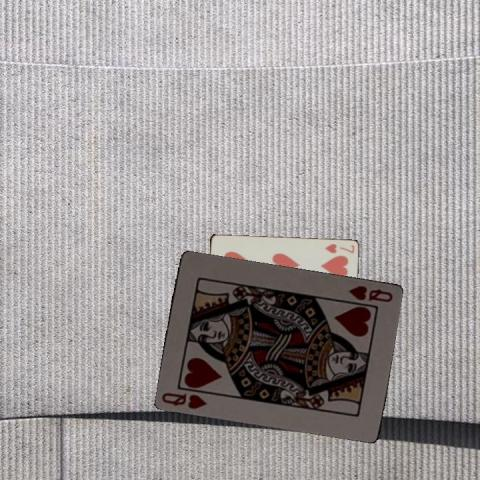7h: (322, 241, 356, 255)
Qh: (158, 389, 208, 411), (345, 283, 394, 304)
